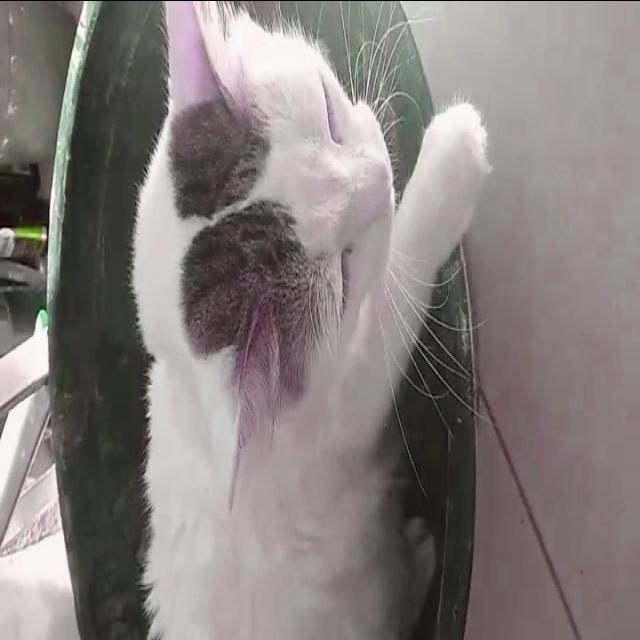Simba: (120, 1, 492, 638)
